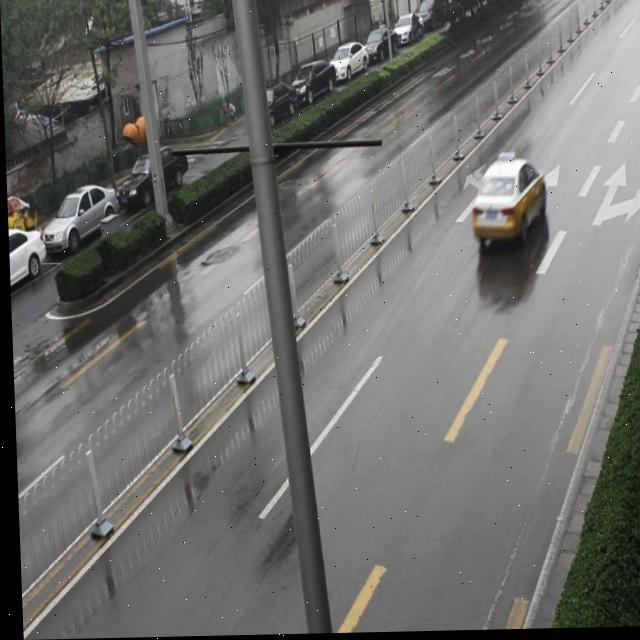car: (467, 146, 546, 258)
